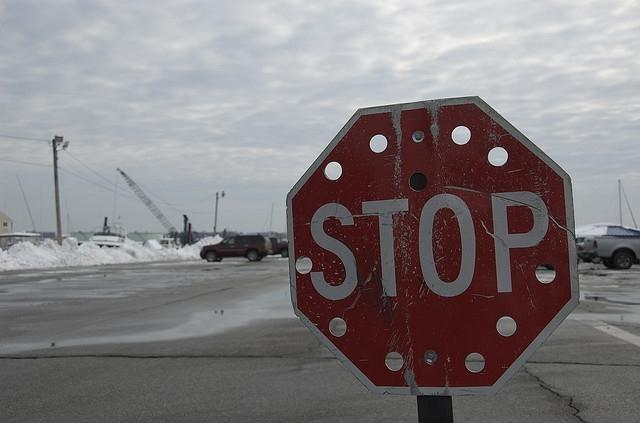car: (200, 235, 272, 262), (576, 221, 620, 264)
truck: (593, 236, 640, 270), (269, 237, 289, 257)
